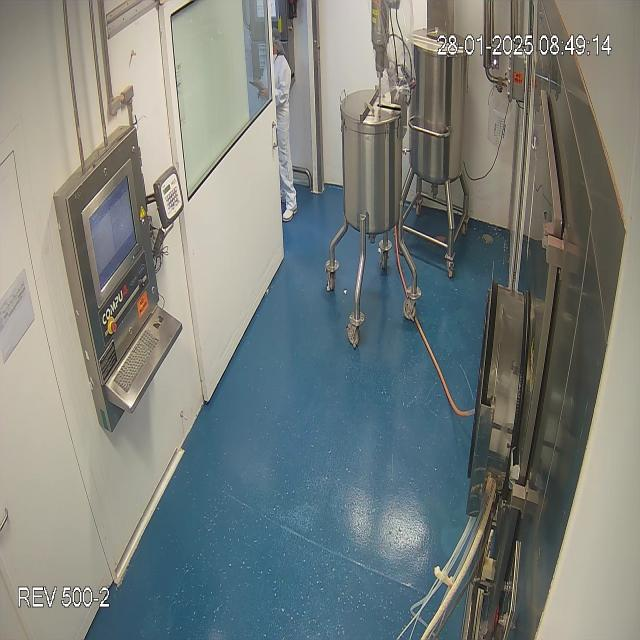bota: (280, 200, 302, 228)
pessoa: (271, 29, 299, 223)
touca: (270, 28, 287, 54)
